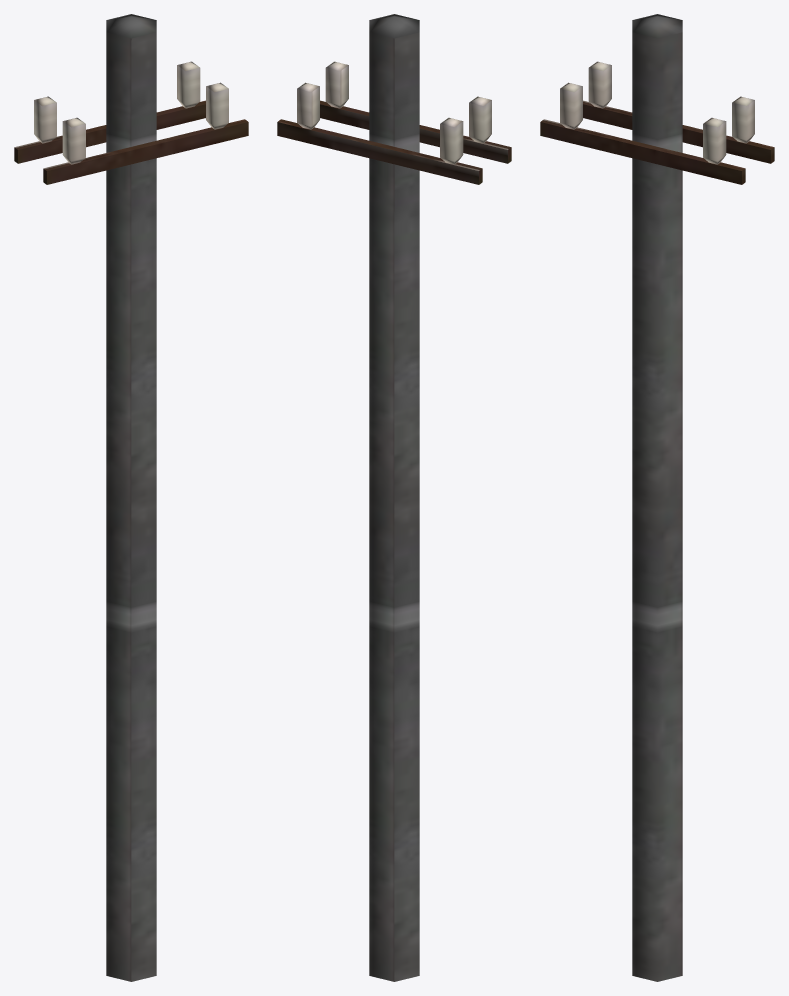
Rendered from ElectricPost01_Art.glb.
The picture shows the model from 3 angles, left to right: view 1: azimuth 30°, elevation 25°; view 2: azimuth 150°, elevation 25°; view 3: azimuth 330°, elevation 25°; orthographic projection.
Visible parts, largest first — view 1: ElectricPost01_Art; view 2: ElectricPost01_Art; view 3: ElectricPost01_Art.
Boxes of the visible parts, x1,y1,x2,y2 form: ElectricPost01_Art: (14,14,248,981); ElectricPost01_Art: (277,14,511,981); ElectricPost01_Art: (540,14,774,981).
Bounding box in the file's own units: 2.31 × 10.43 × 0.741.
1 material, 1 textured.
